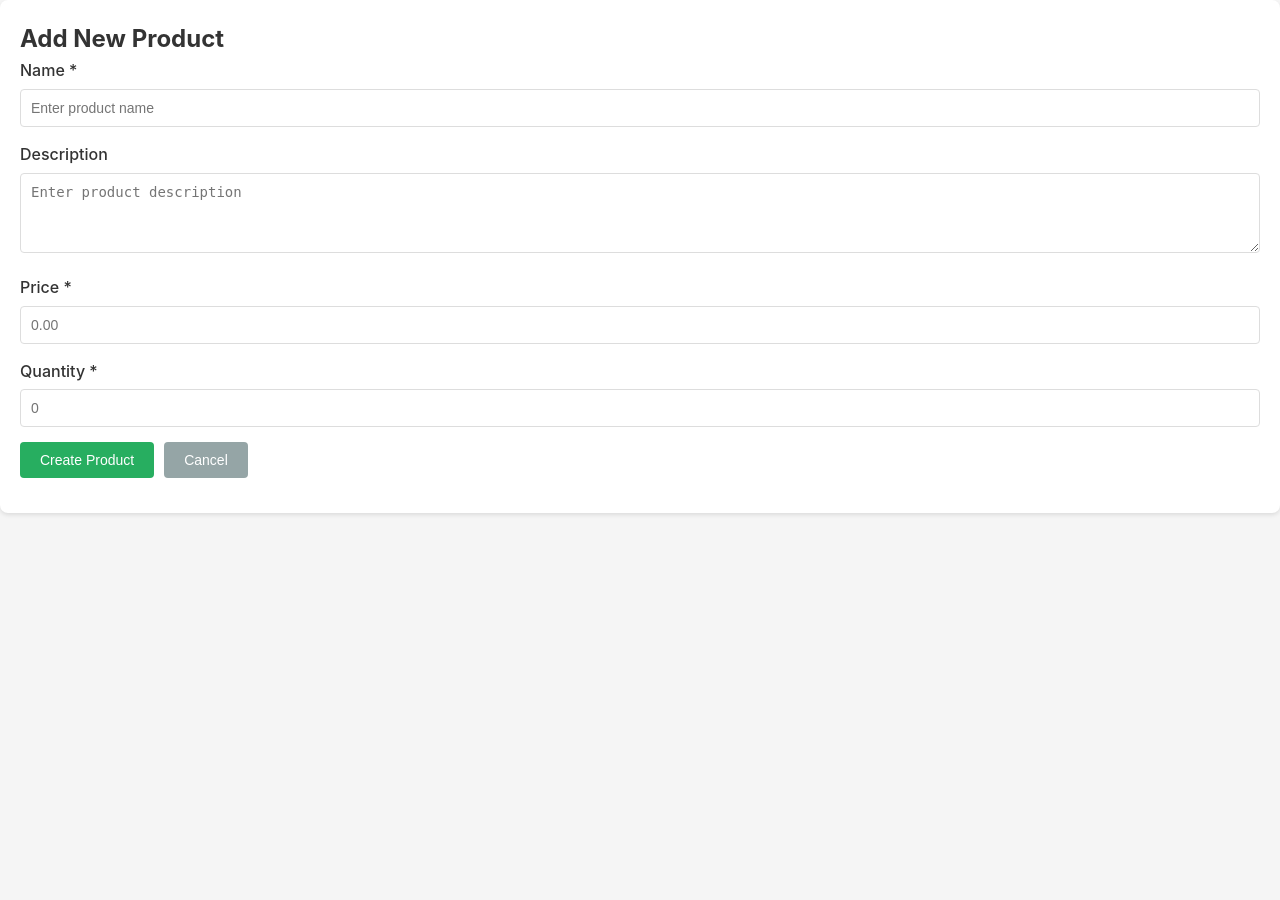
it: ProductForm › validates required fields
Click the button "Create Product" at (87, 460), box [20, 442, 154, 478]
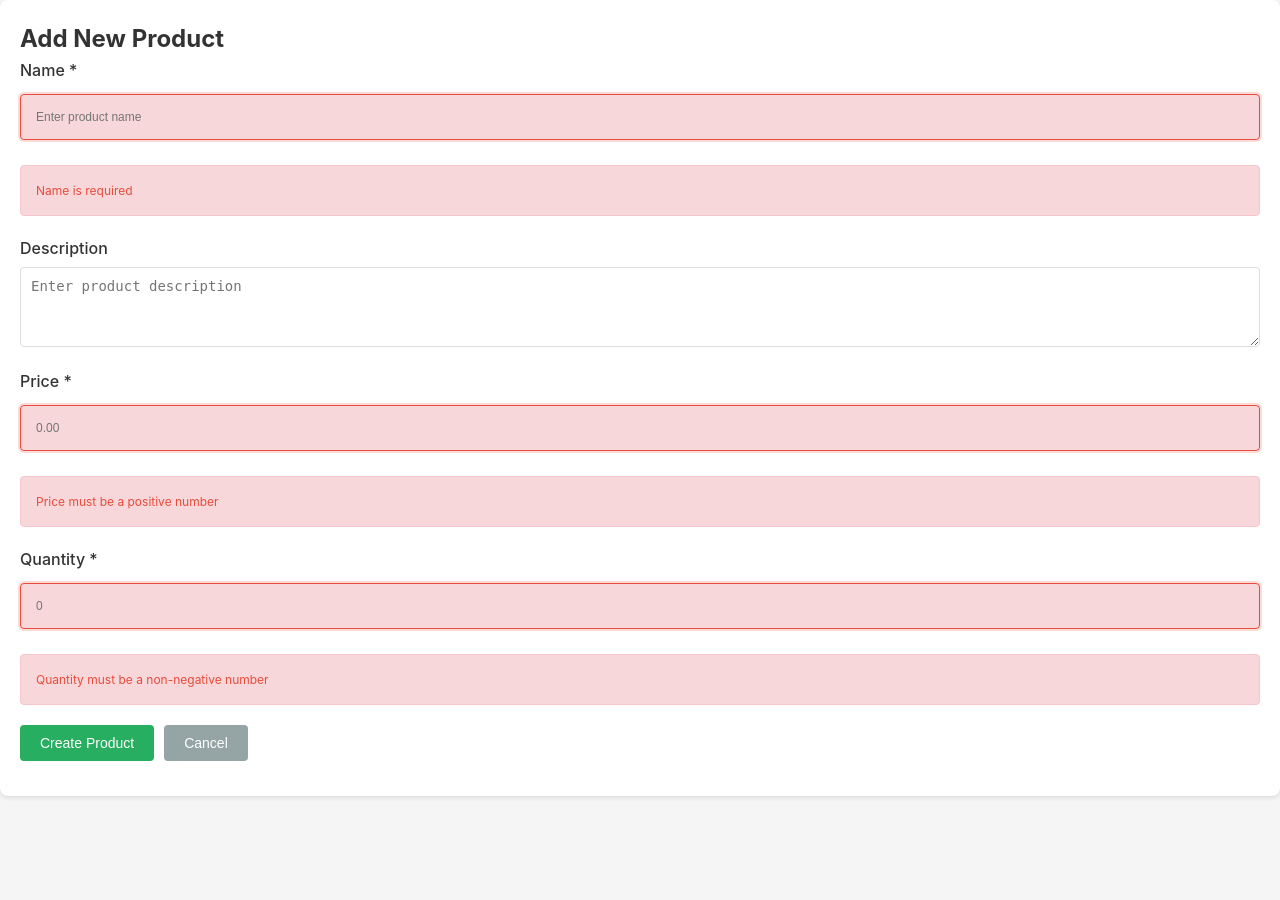
Expected: the text "Name is required" is shown, [20, 165, 1260, 216]
